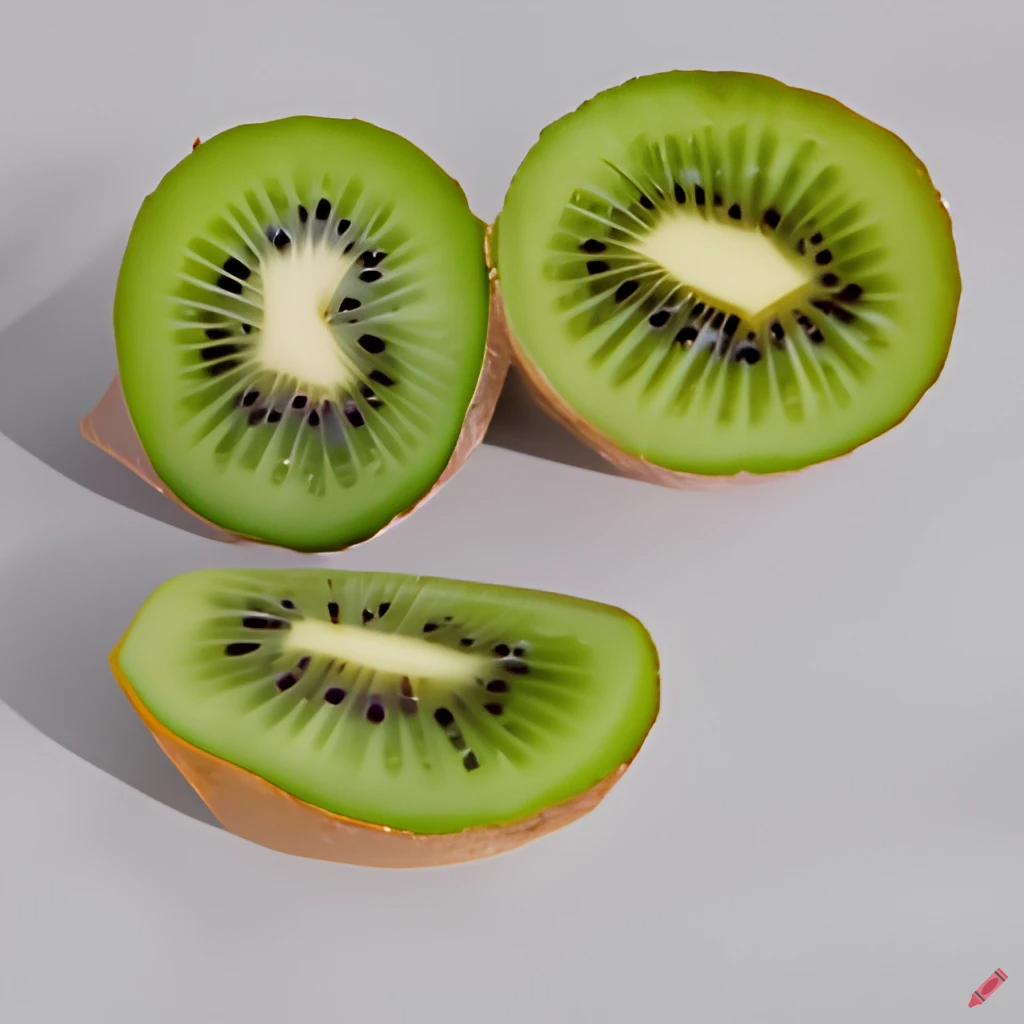Kiwi: (479, 59, 990, 530)
